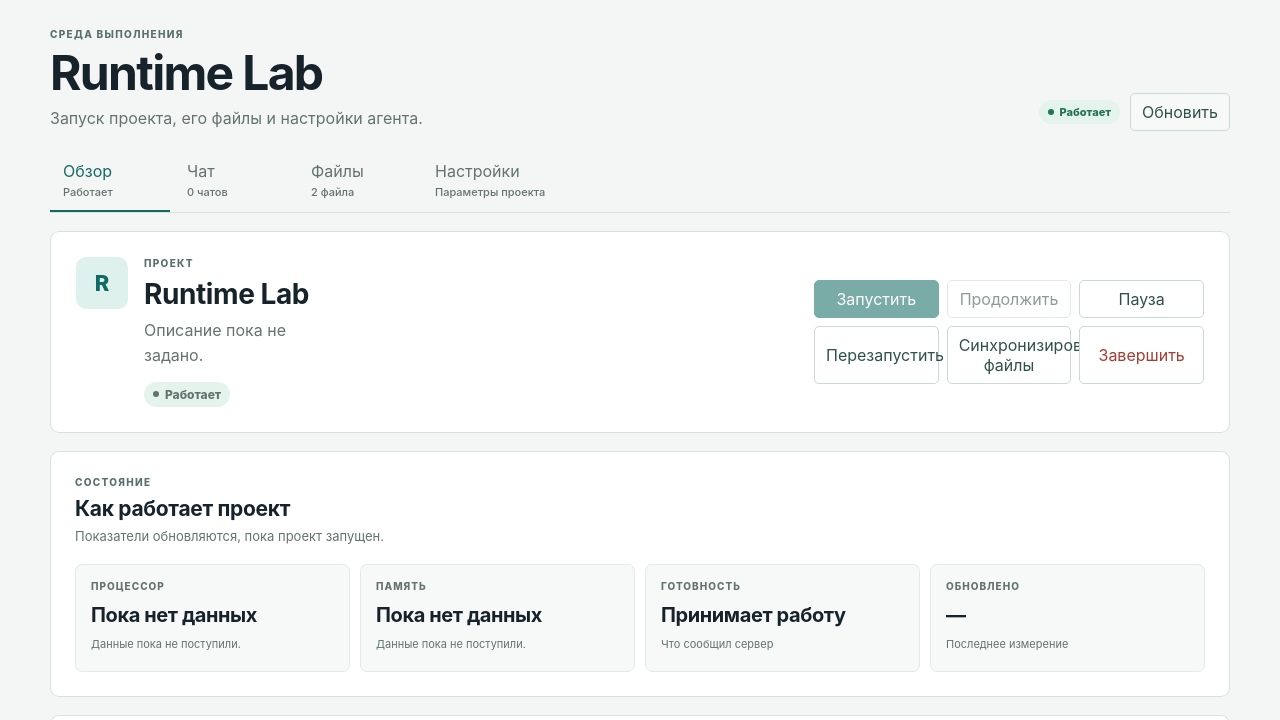
ProjectRuntime component workflow › navigates runtime tabs, browses folders, previews a file, and downloads it
The image size is (1280, 720).
Later steps or results of the test are not shown.
Click the button "Файлы 2 файла": (358, 181) [298,149,418,212]
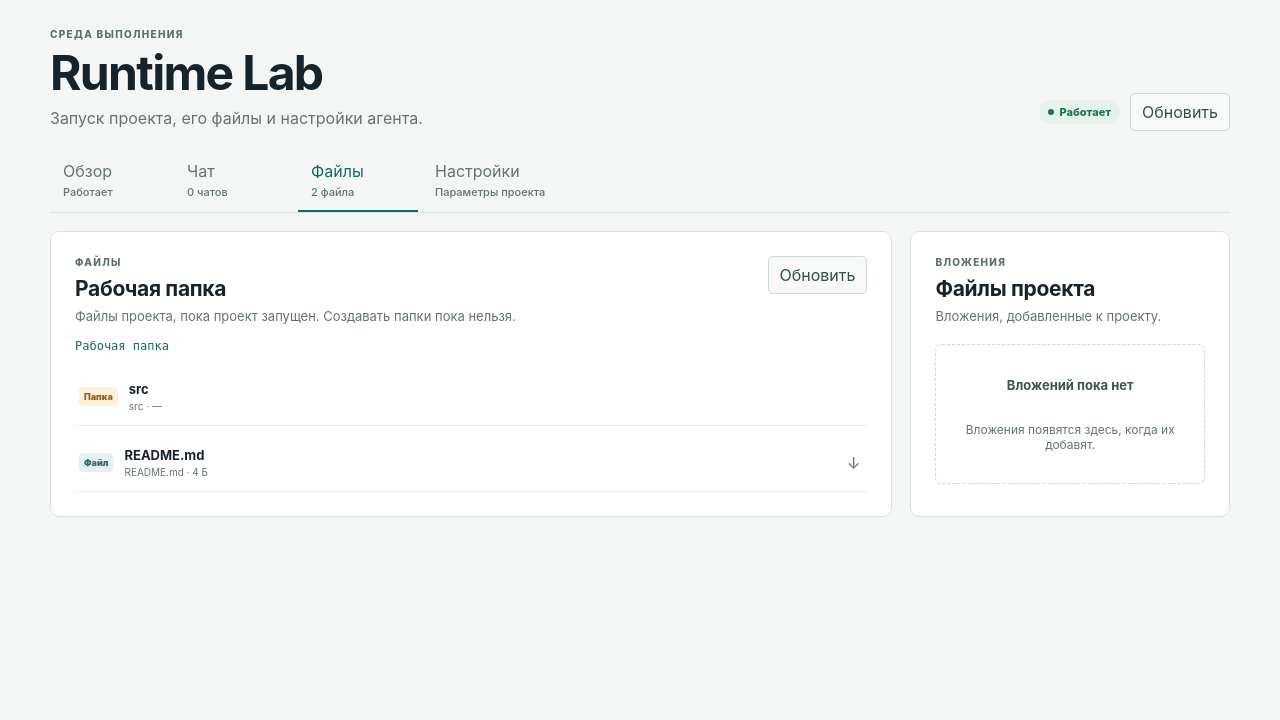
Check: the text "Создавать папки пока нельзя" is shown, box [75,308,516,324]
